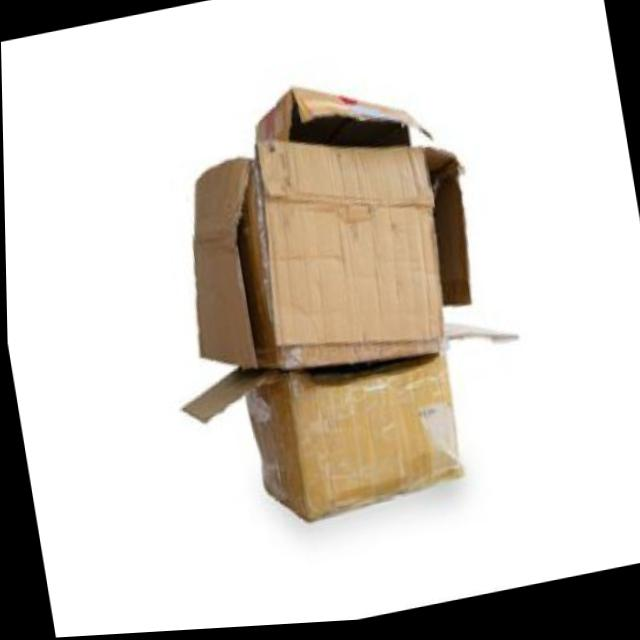box: (166, 61, 488, 382), (202, 320, 519, 551)
